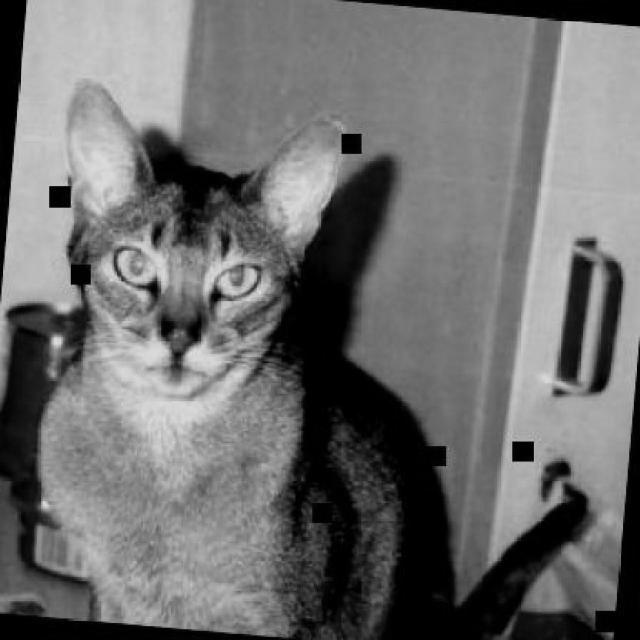Cat: (20, 74, 622, 638)
